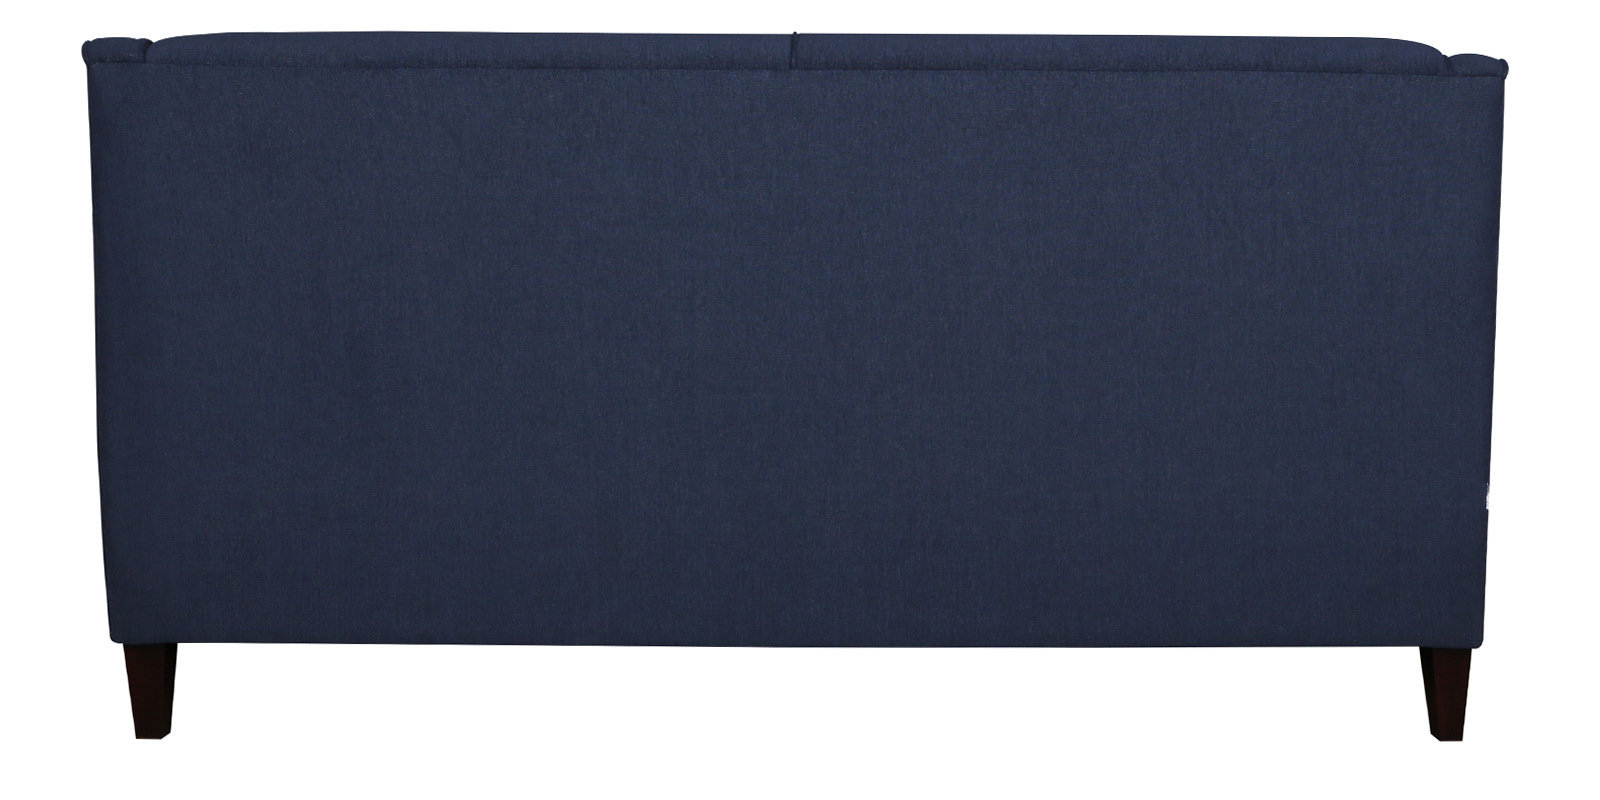Oscar Three Seater Sofa in Navy Blue Colour by CasaCraft: (77, 29, 1511, 741)
